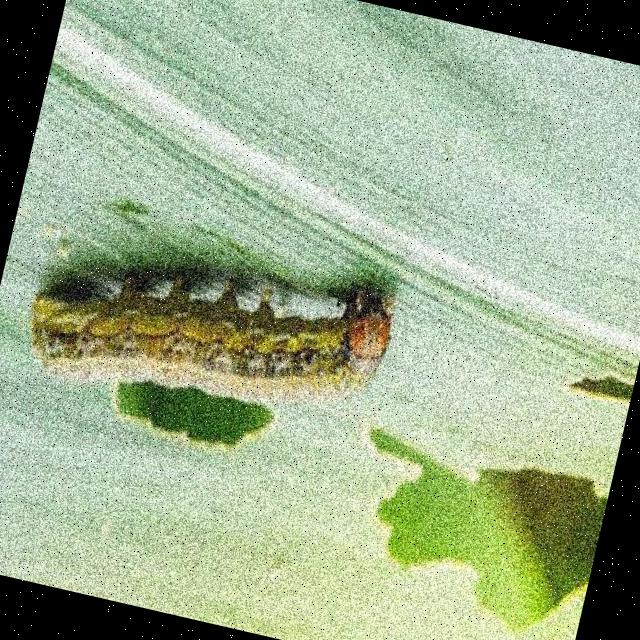worm: (18, 213, 404, 455)
